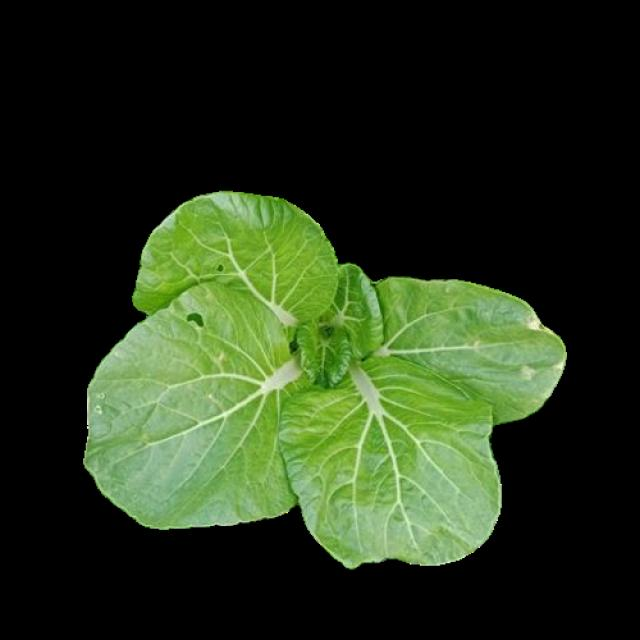mature: (90, 193, 563, 564)
unhealthy: (91, 286, 317, 528), (374, 278, 564, 421), (132, 196, 334, 320)
